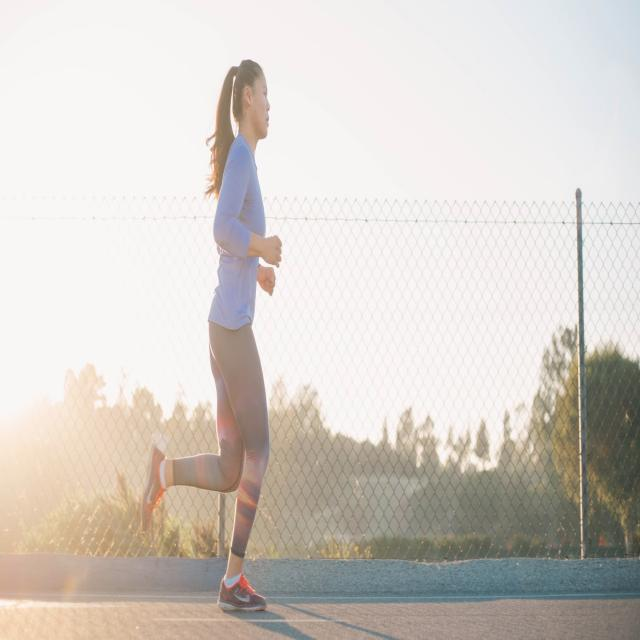adult: (142, 54, 282, 612)
